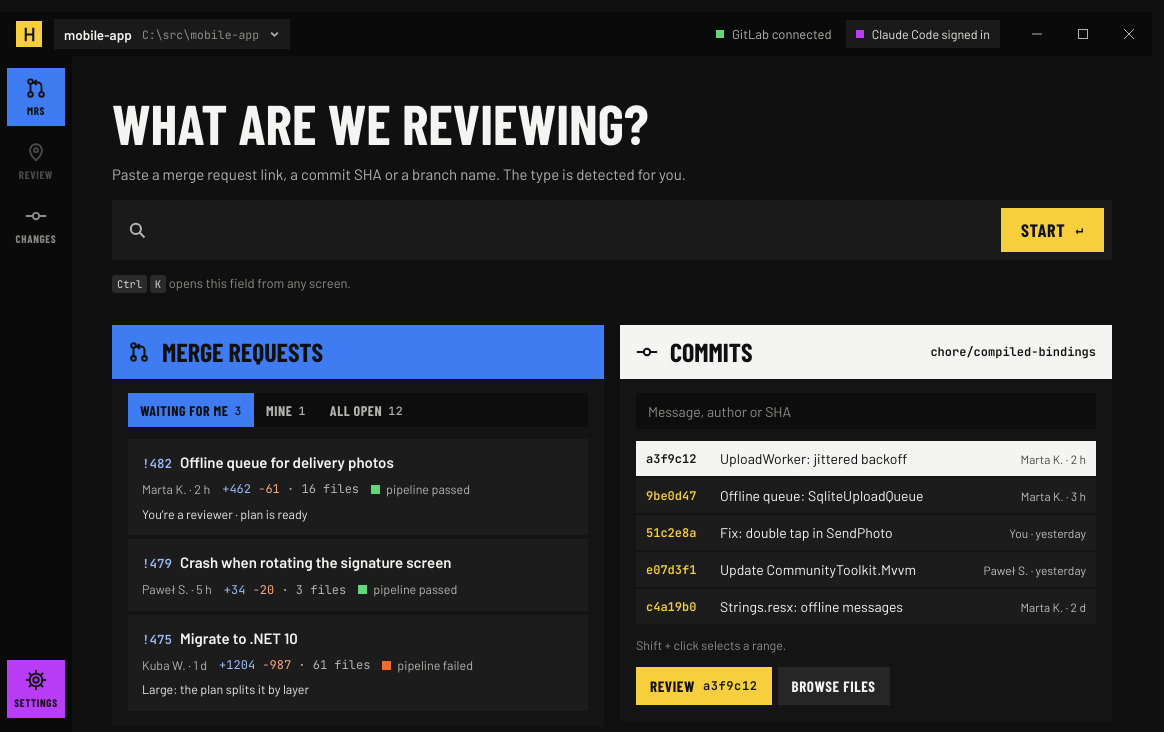
Test case: S-01 title bar › F-30.7 picking a repository makes it active for S-01
Click the button with aria-label "Repository mobile-app" at (172, 34), box [54, 19, 290, 49]
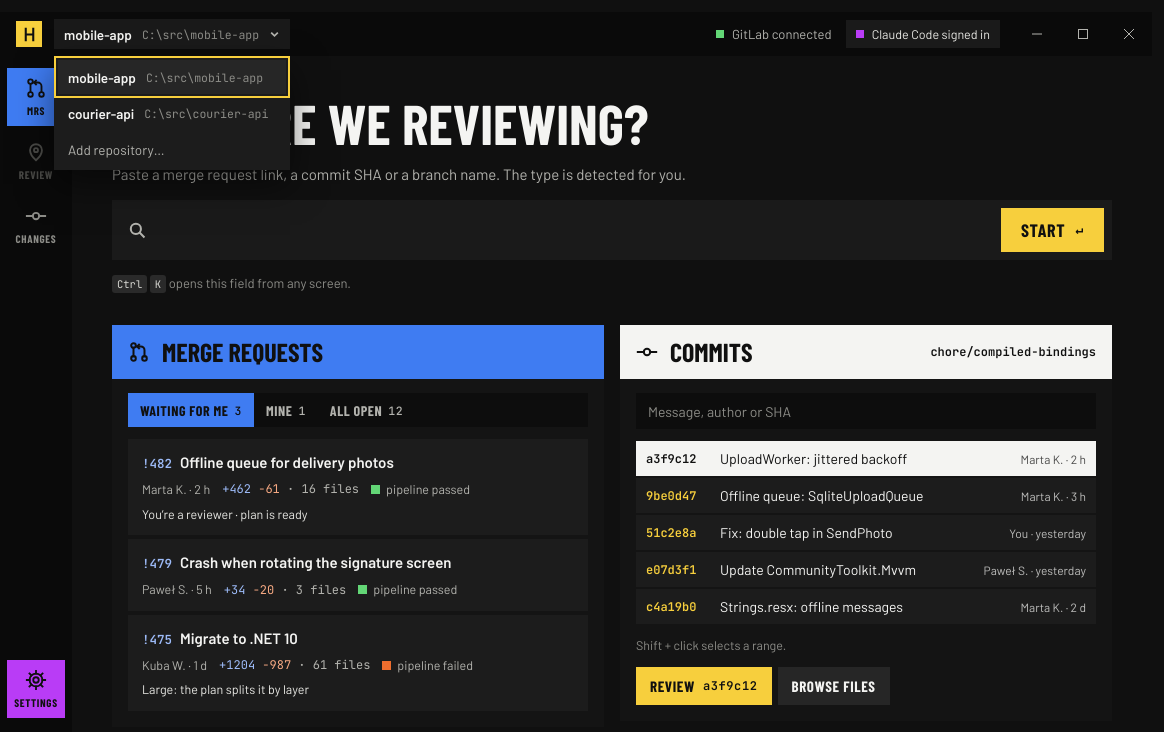
Now the menu item "courier-api C:\\src\\courier-api" is shown, box [58, 96, 286, 130]
Press Arrowdown Enter
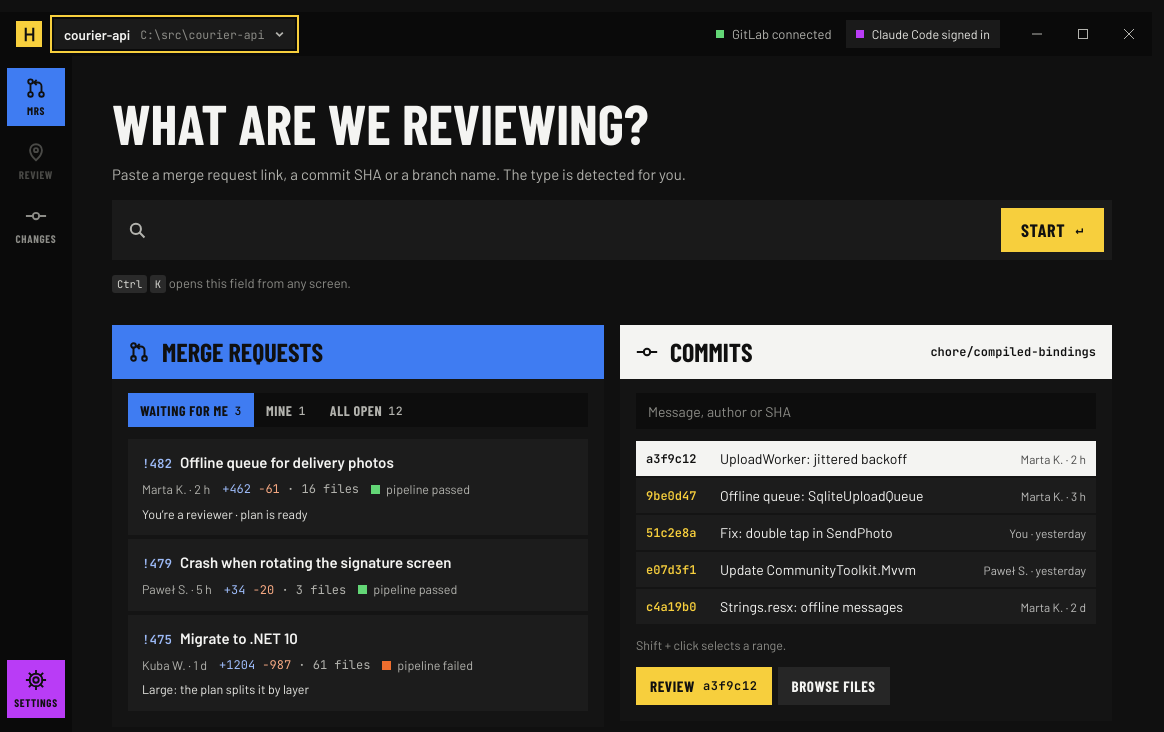
Now the menu is gone
